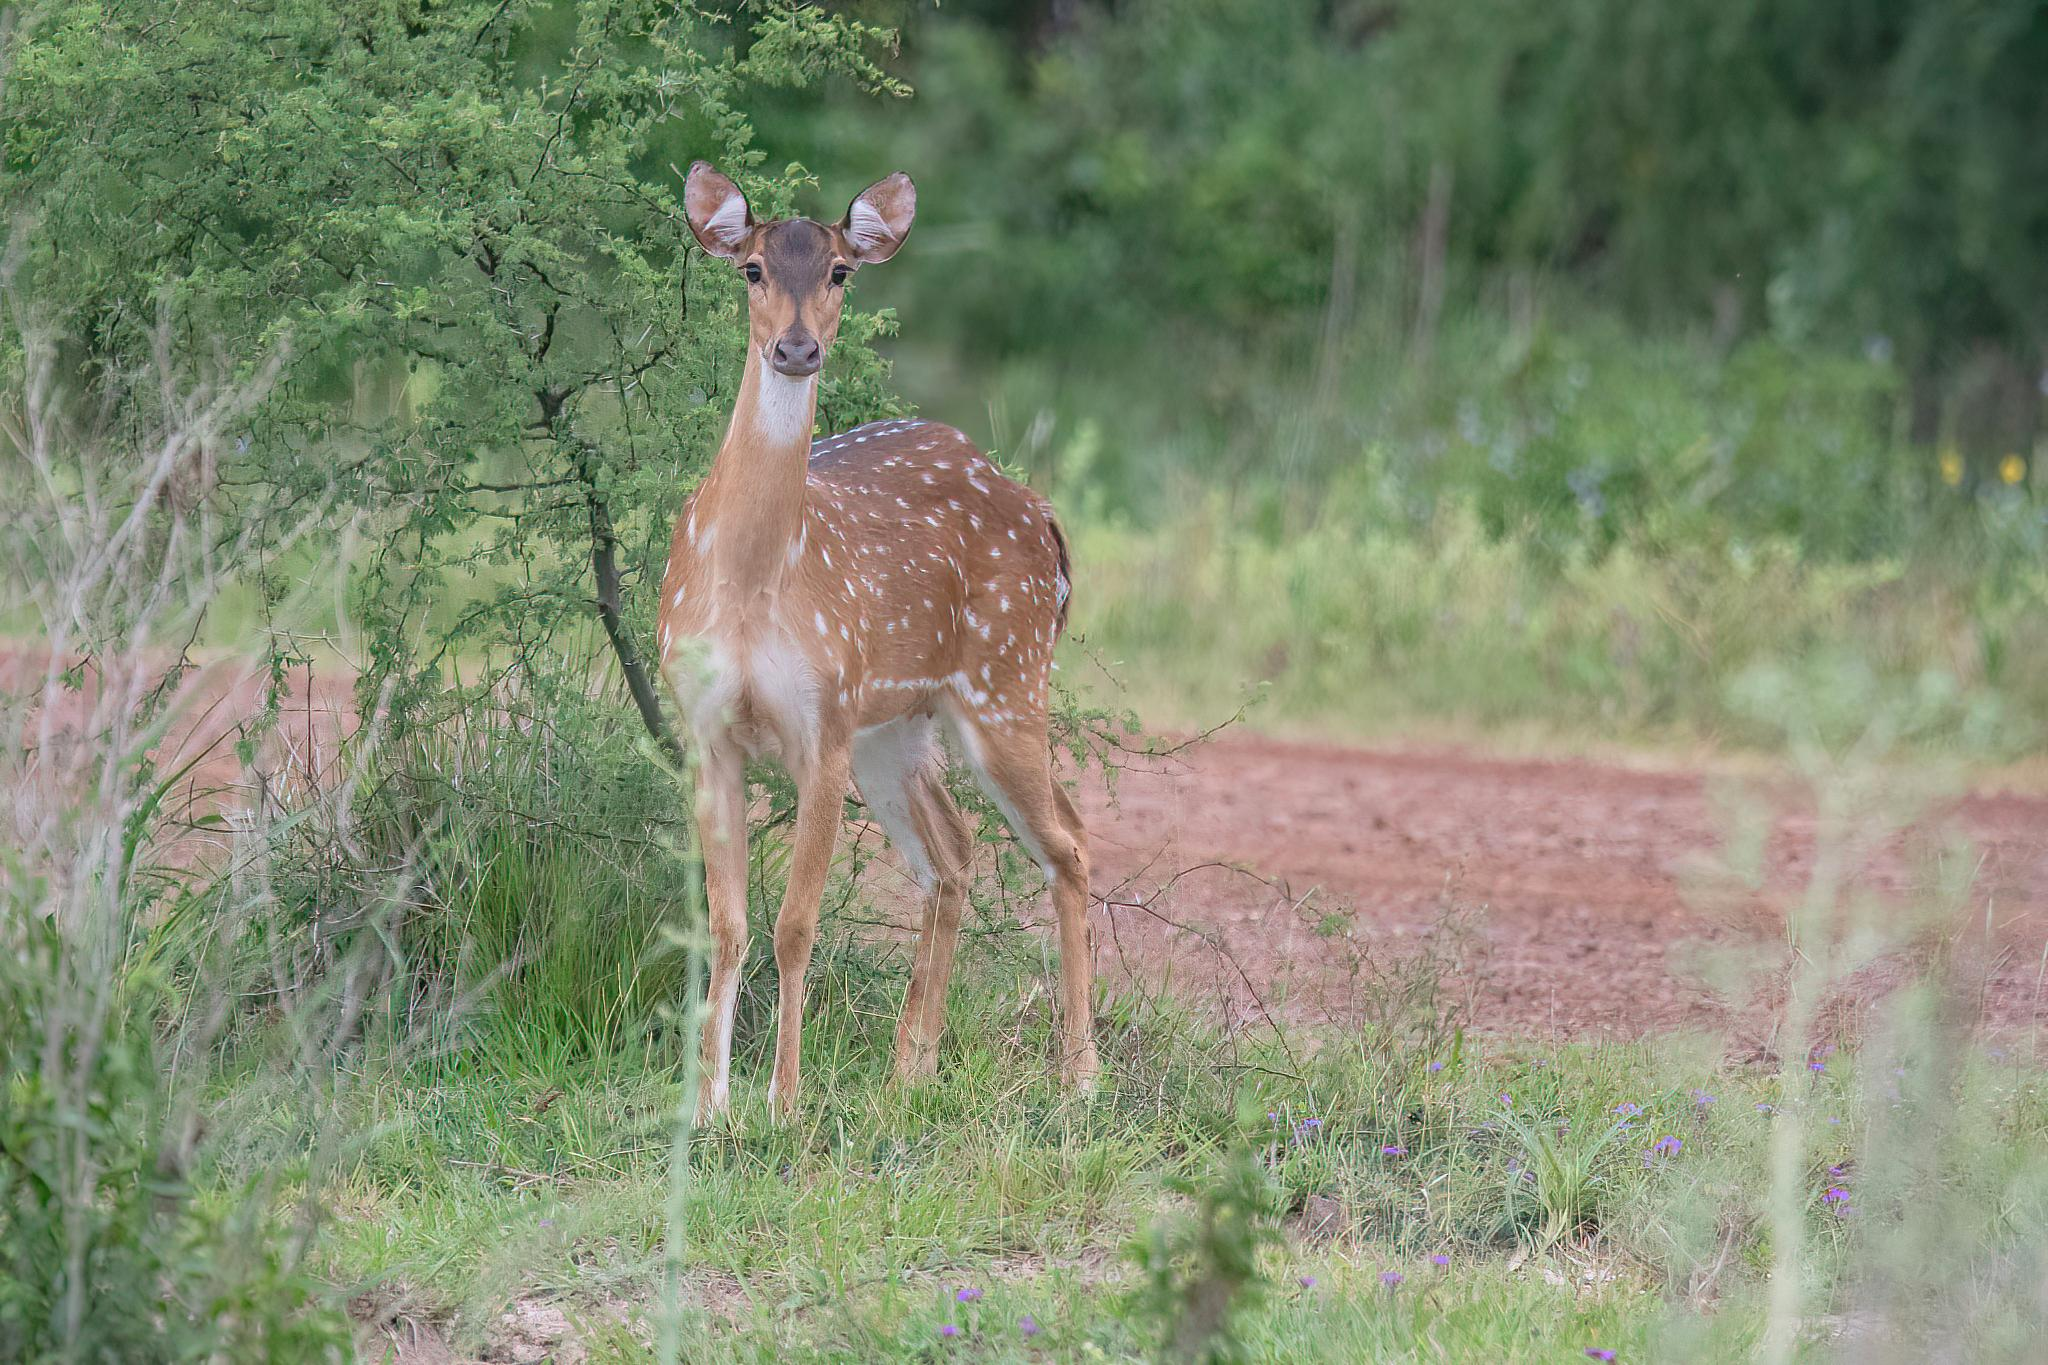Deer: (658, 161, 1096, 1114)
